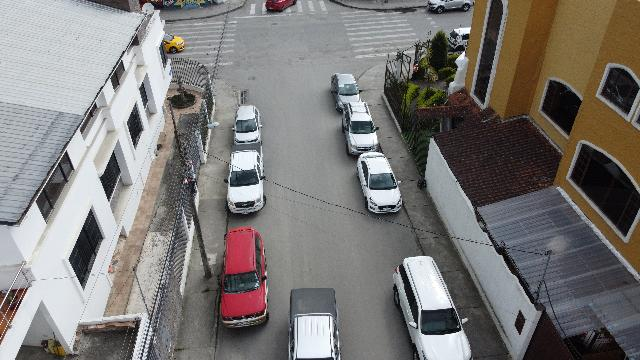Vehiculo: (392, 256, 472, 360), (220, 226, 268, 328), (287, 288, 341, 360), (356, 152, 402, 214), (224, 150, 266, 214), (340, 102, 380, 156), (330, 72, 362, 112), (232, 105, 262, 145), (428, 1, 474, 14), (448, 26, 470, 50), (163, 34, 185, 54), (266, 1, 296, 12)
